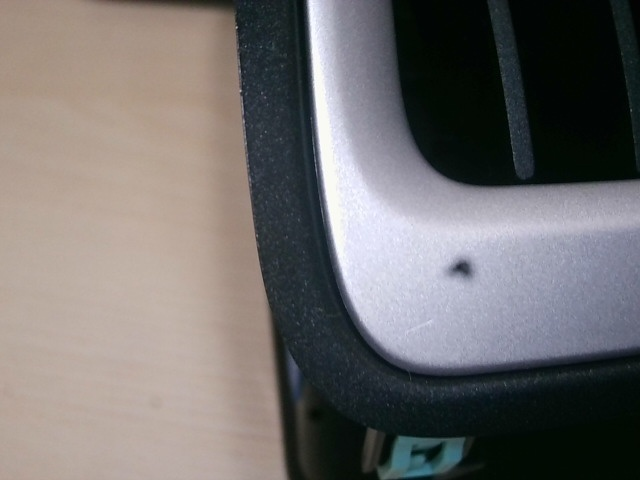NG: (406, 313, 435, 337)
